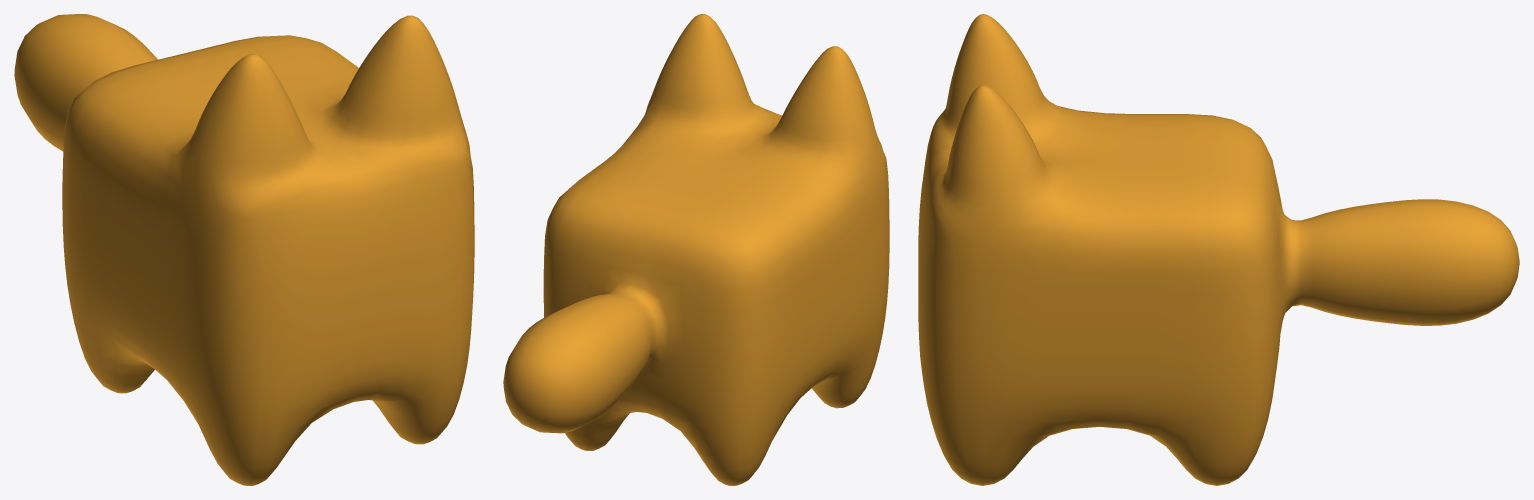
The model's file is MaekoSigmundTest1.fbx.
The picture shows the model from 3 angles, left to right: view 1: azimuth 30°, elevation 25°; view 2: azimuth 150°, elevation 25°; view 3: azimuth 270°, elevation 25°; orthographic projection. The views are drawn at different scales.
Parts seen in each view (by area): view 1: SigmundTest_1; view 2: SigmundTest_1; view 3: SigmundTest_1.
Part boxes in pixels (x1=…): SigmundTest_1: x1=14, y1=14, x2=474, y2=485; SigmundTest_1: x1=503, y1=14, x2=889, y2=485; SigmundTest_1: x1=918, y1=14, x2=1519, y2=485.
Bounding box in the file's own units: 720 × 1489 × 1079.
